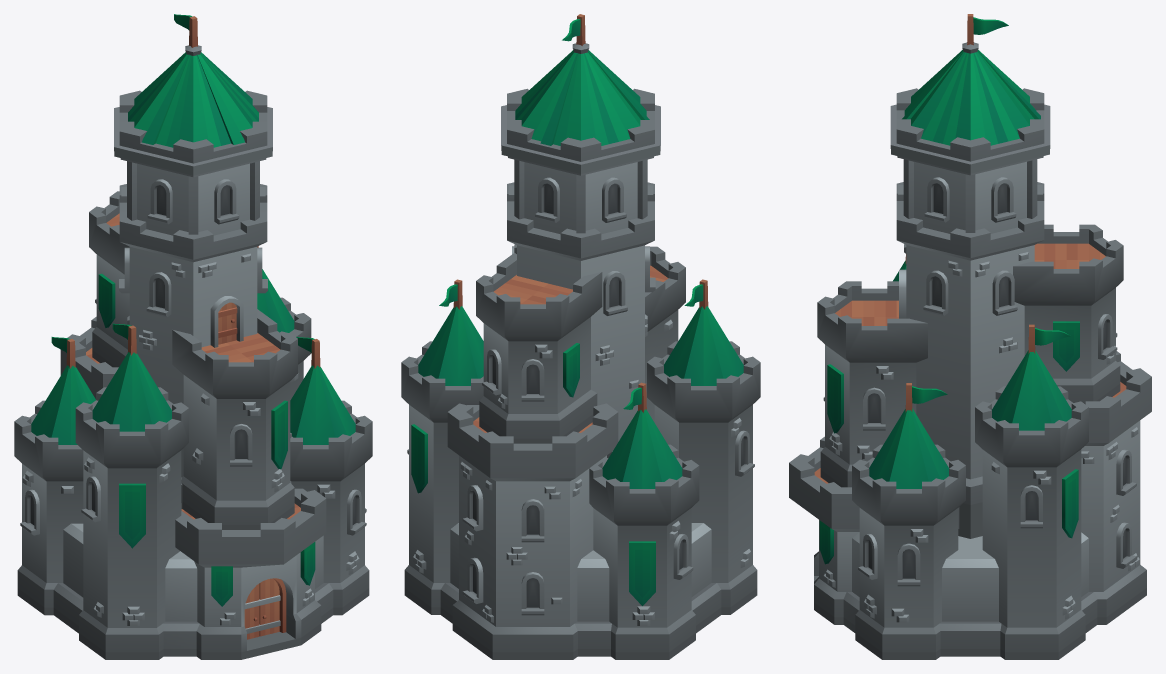
The model's file is castle_green.glb.
3 views of the same model, side by side, from view 1: azimuth 30°, elevation 25°; view 2: azimuth 150°, elevation 25°; view 3: azimuth 270°, elevation 25° (orthographic).
Parts seen in each view (by area): view 1: castle_green; view 2: castle_green; view 3: castle_green.
Part boxes in pixels (x1,y1,x2,y2): castle_green: (14, 14, 372, 659); castle_green: (401, 14, 760, 659); castle_green: (789, 14, 1151, 659).
Size of the model in its own units: 0.9877 by 1.99 by 1.13.
1 material, 1 textured.
